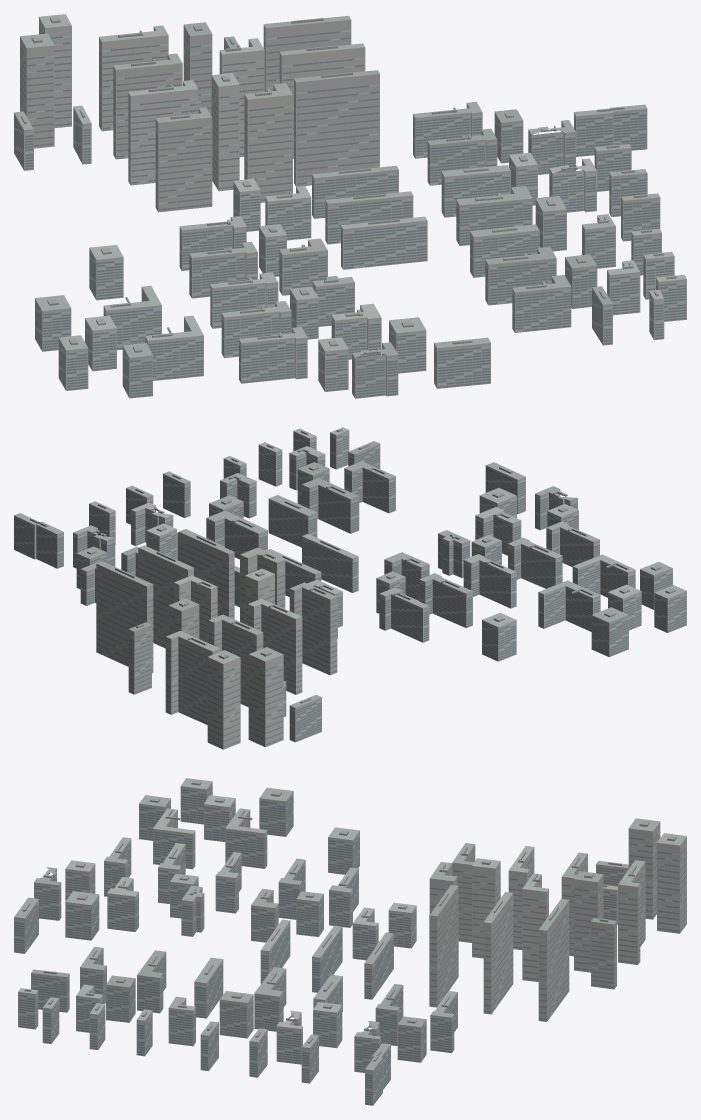
File: apt-a10021122.glb
3 renders of one model, top to bottom at view 1: azimuth 30°, elevation 25°; view 2: azimuth 150°, elevation 25°; view 3: azimuth 270°, elevation 25°, orthographic. The views are drawn at different scales.
Parts seen in each view (by area): view 1: apt-a10021122; view 2: apt-a10021122; view 3: apt-a10021122.
Part boxes in pixels (x1,y1,x2,y2): apt-a10021122: (14,14,686,398); apt-a10021122: (14,427,686,749); apt-a10021122: (14,778,686,1105).
Bounding box in the file's own units: 808 × 120 × 786.
